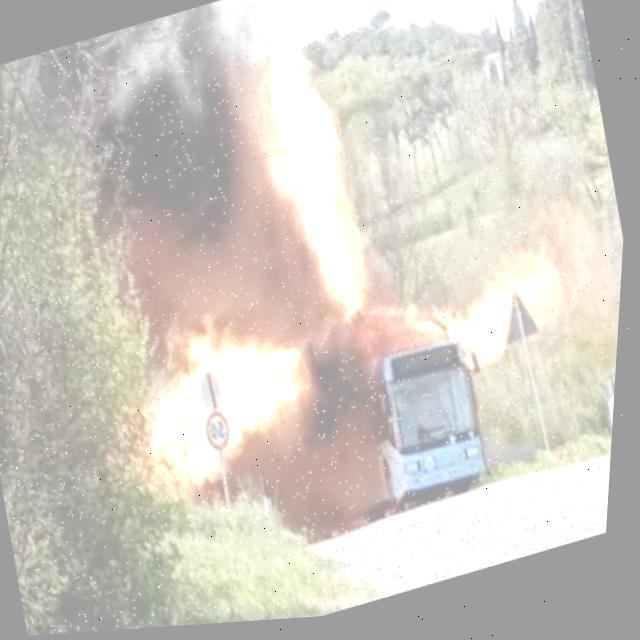Fire: (240, 21, 386, 335), (119, 325, 322, 503), (429, 249, 598, 382)
Smoke: (72, 22, 311, 341), (333, 415, 411, 526)
